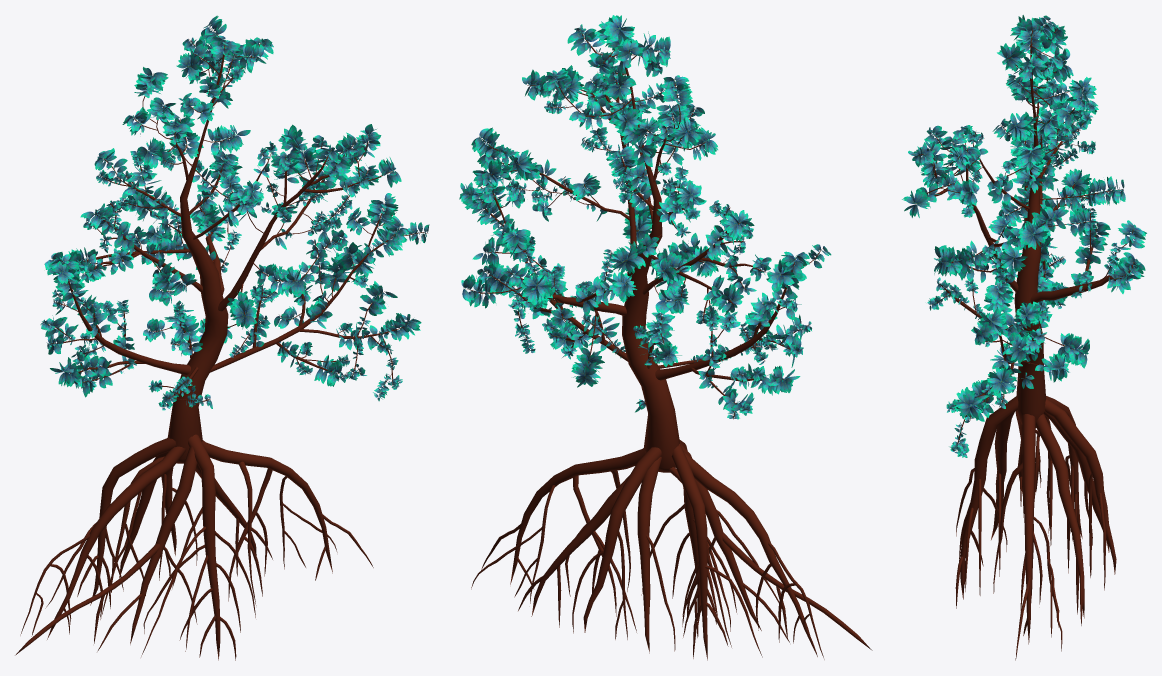
File: Mangrove_Dream_01 1.fbx
3 views of the same model, side by side, from view 1: azimuth 30°, elevation 25°; view 2: azimuth 150°, elevation 25°; view 3: azimuth 270°, elevation 25° (orthographic). The views are drawn at different scales.
Visible parts, largest first — view 1: Leaves_Dream, Tree; view 2: Leaves_Dream, Tree; view 3: Leaves_Dream, Tree.
Boxes of the visible parts, <box> form: Leaves_Dream: <box>40,15,429,410</box>; Tree: <box>15,28,427,660</box>; Leaves_Dream: <box>459,15,831,419</box>; Tree: <box>467,30,872,660</box>; Leaves_Dream: <box>902,15,1146,457</box>; Tree: <box>915,21,1134,660</box>.
Size of the model in its own units: 782 by 1121 by 412.
